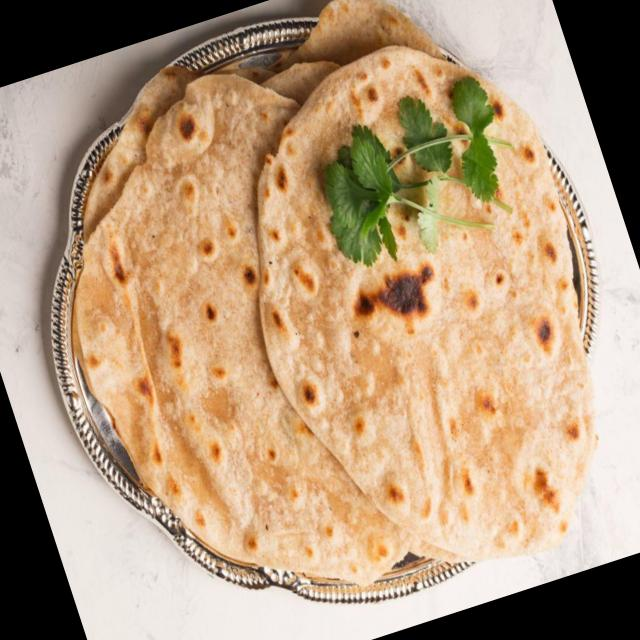roti: (250, 49, 599, 558), (72, 70, 409, 590)
